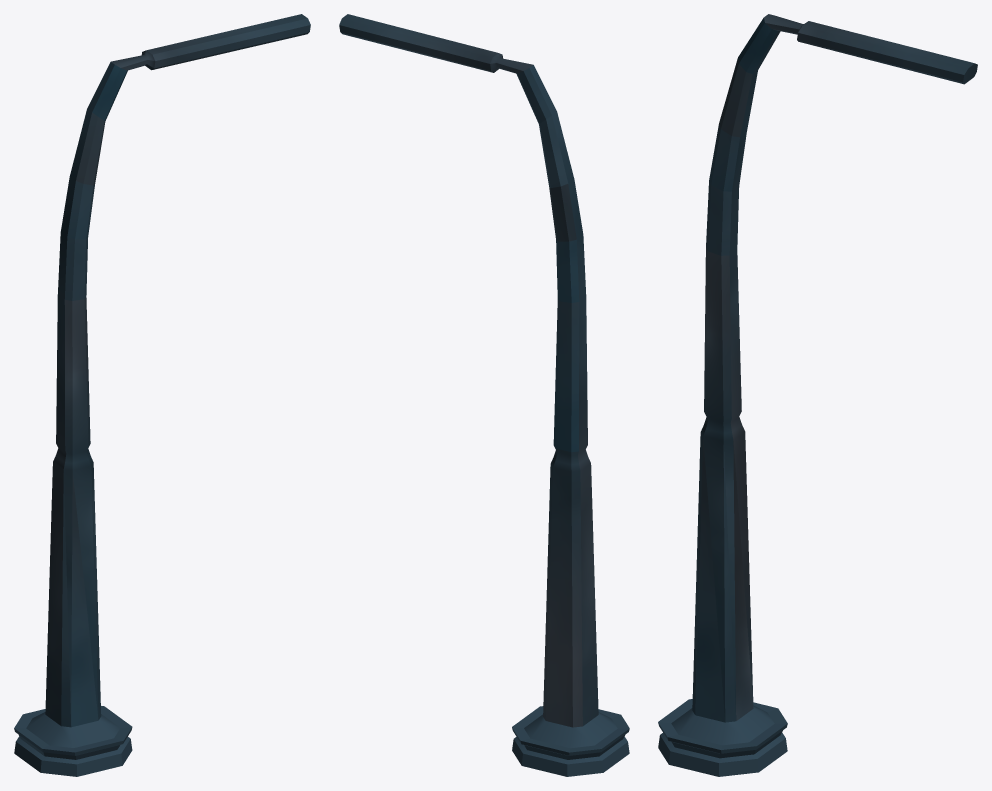
File: lamp_post.fbx
The picture shows the model from 3 angles, left to right: view 1: azimuth 30°, elevation 25°; view 2: azimuth 150°, elevation 25°; view 3: azimuth 330°, elevation 25°; orthographic projection. The views are drawn at different scales.
Visible parts, largest first — view 1: lampost; view 2: lampost; view 3: lampost.
Boxes of the visible parts, box(x1,y1,x2,y2) form: lampost: box(14, 14, 310, 776); lampost: box(339, 14, 629, 776); lampost: box(658, 14, 977, 776).
Size of the model in its own units: 11.46 by 27.11 by 3.82.
